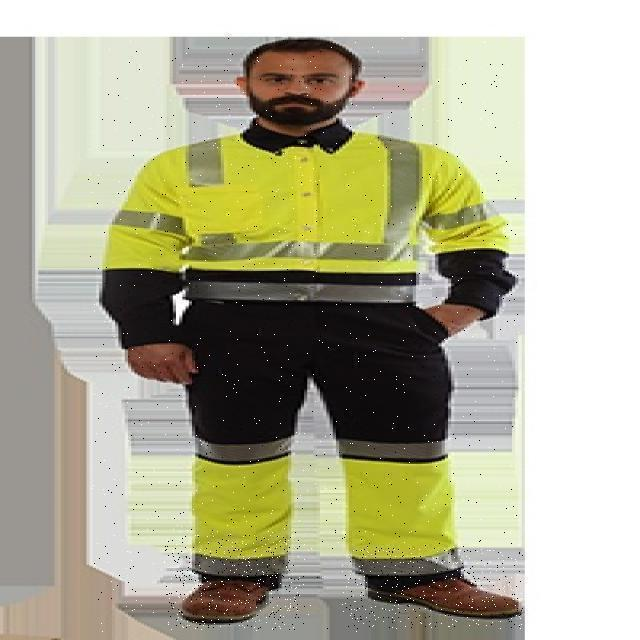safety_vest: (88, 121, 458, 283)
